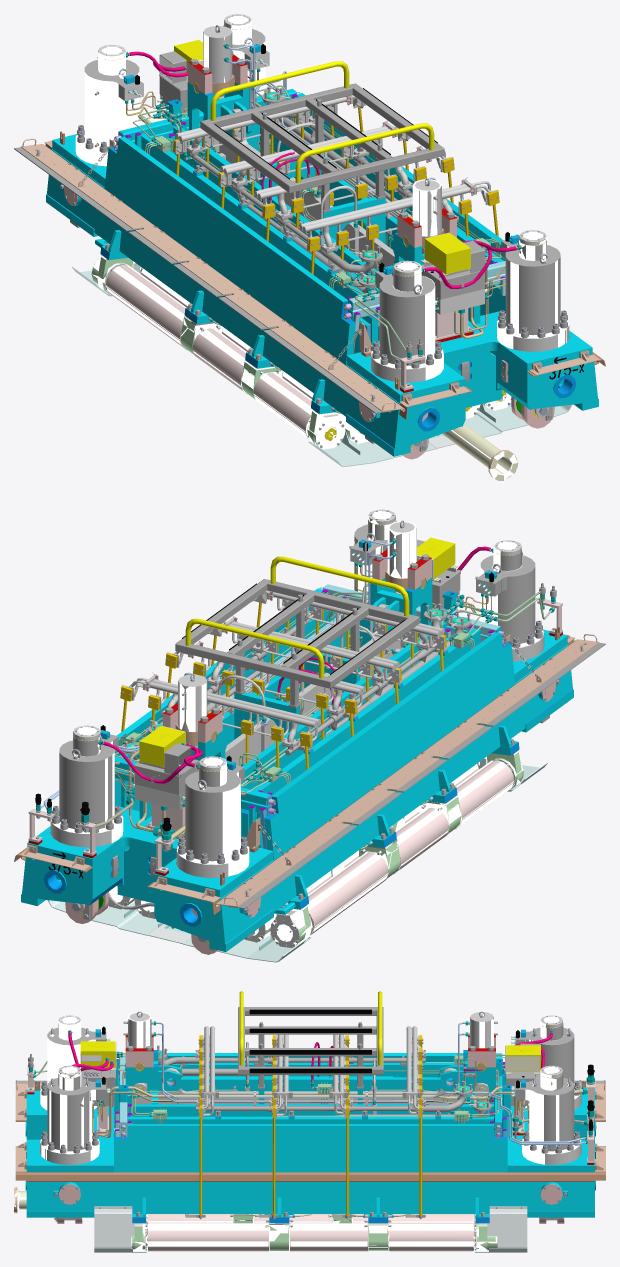
The model's file is SEGMENT_3_5_LOOSE_SIDE_FRAME.glb.
3 views of the same model, one above another, from view 1: azimuth 30°, elevation 25°; view 2: azimuth 150°, elevation 25°; view 3: azimuth 270°, elevation 25° (orthographic). The views are drawn at different scales.
Visible parts, largest first — view 1: Model, ROLLSET_7, PRESSURE_CYLINDER_3, PRESSURE_CYLINDER_1, PRESSURE_CYLINDER_4, box__1_, LIFTING_CYLINDER_LEFT, ROLLSET_6, PRESSURE_CYLINDER_2; view 2: Model, ROLLSET_7, PRESSURE_CYLINDER_3, box, PRESSURE_CYLINDER_2, LIFTING_CYLINDER_LEFT, box__1_, LIFTING_CYLINDER_RIGHT, PRESSURE_CYLINDER_4, ROLLSET_6, PRESSURE_CYLINDER_1; view 3: Model, ROLLSET_1, PRESSURE_CYLINDER_2, PRESSURE_CYLINDER_1, PRESSURE_CYLINDER_4, ROLLER_2_3, box__1_, ROLLER_2_1, ROLLSET_2, ROLLER_2_2, LIFTING_CYLINDER_LEFT, ROLLER_1_1 (+2 smaller).
Boxes of the visible parts, x1=… form: Model: x1=14, y1=14, x2=605, y2=480; ROLLSET_7: x1=92, y1=254, x2=344, y2=449; PRESSURE_CYLINDER_3: x1=75, y1=45, x2=139, y2=166; PRESSURE_CYLINDER_1: x1=497, y1=231, x2=569, y2=348; PRESSURE_CYLINDER_4: x1=371, y1=260, x2=443, y2=380; box__1_: x1=425, y1=232, x2=470, y2=273; LIFTING_CYLINDER_LEFT: x1=412, y1=179, x2=441, y2=236; ROLLSET_6: x1=132, y1=261, x2=368, y2=443; PRESSURE_CYLINDER_2: x1=225, y1=15, x2=265, y2=95; Model: x1=14, y1=509, x2=605, y2=962; ROLLSET_7: x1=273, y1=751, x2=523, y2=945; PRESSURE_CYLINDER_3: x1=177, y1=757, x2=249, y2=876; box: x1=139, y1=726, x2=185, y2=767; PRESSURE_CYLINDER_2: x1=51, y1=726, x2=123, y2=842; LIFTING_CYLINDER_LEFT: x1=387, y1=521, x2=416, y2=578; box__1_: x1=417, y1=537, x2=455, y2=578; LIFTING_CYLINDER_RIGHT: x1=179, y1=675, x2=206, y2=732; PRESSURE_CYLINDER_4: x1=479, y1=540, x2=543, y2=648; ROLLSET_6: x1=253, y1=756, x2=487, y2=939; PRESSURE_CYLINDER_1: x1=354, y1=510, x2=395, y2=592; Model: x1=14, y1=991, x2=605, y2=1252; ROLLSET_1: x1=131, y1=1220, x2=497, y2=1251; PRESSURE_CYLINDER_2: x1=522, y1=1066, x2=581, y2=1164; PRESSURE_CYLINDER_1: x1=40, y1=1066, x2=99, y2=1160; PRESSURE_CYLINDER_4: x1=40, y1=1016, x2=97, y2=1109; ROLLER_2_3: x1=353, y1=1214, x2=475, y2=1228; box__1_: x1=80, y1=1041, x2=115, y2=1067; ROLLER_2_1: x1=146, y1=1215, x2=232, y2=1226; ROLLSET_2: x1=146, y1=1214, x2=475, y2=1228; ROLLER_2_2: x1=253, y1=1215, x2=331, y2=1224; LIFTING_CYLINDER_LEFT: x1=127, y1=1012, x2=151, y2=1048; ROLLER_1_1: x1=145, y1=1223, x2=268, y2=1251.
Bounding box in the file's own units: 1.99 × 1.92 × 5.09.
